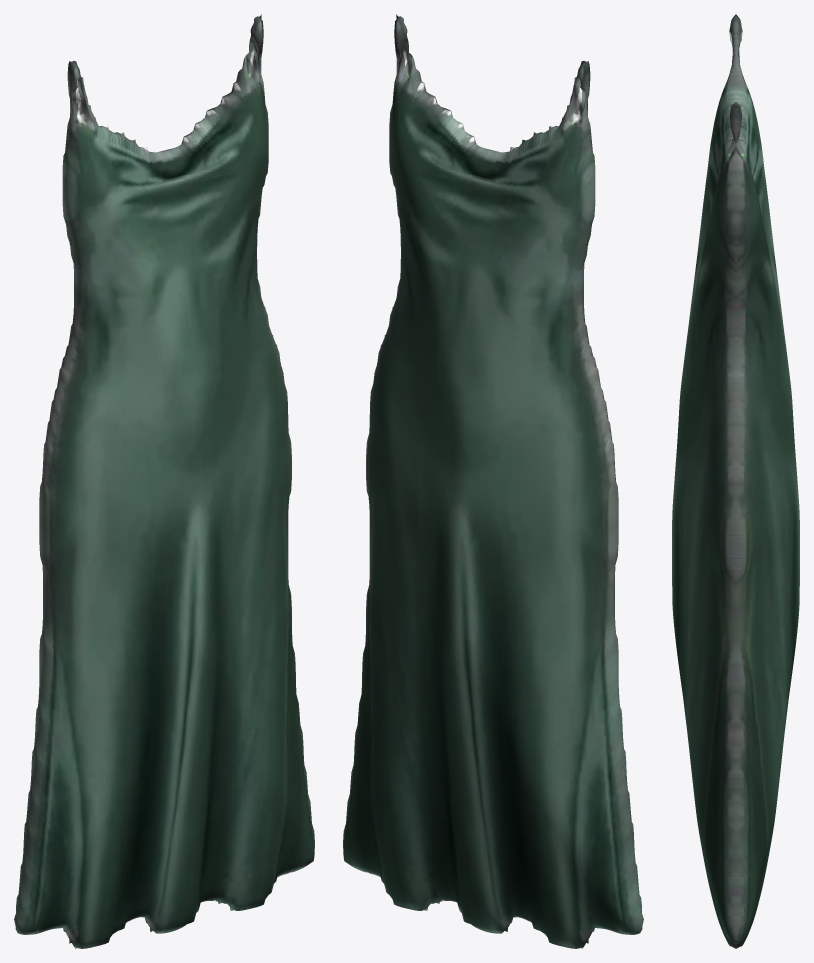
The model's file is prod-ae-emerald-satin-midi.glb.
3 views of the same model, side by side, from view 1: azimuth 30°, elevation 25°; view 2: azimuth 150°, elevation 25°; view 3: azimuth 270°, elevation 25° (orthographic). The views are drawn at different scales.
Visible parts, largest first — view 1: prod-ae-emerald-satin-midi_standalone; view 2: prod-ae-emerald-satin-midi_standalone; view 3: prod-ae-emerald-satin-midi_standalone.
Part boxes in pixels (x1,y1,x2,y2): prod-ae-emerald-satin-midi_standalone: (14, 14, 314, 948); prod-ae-emerald-satin-midi_standalone: (343, 14, 643, 948); prod-ae-emerald-satin-midi_standalone: (672, 14, 799, 948).
Bounding box in the file's own units: 0.2845 × 0.8143 × 0.1109.
1 material, 1 textured.
